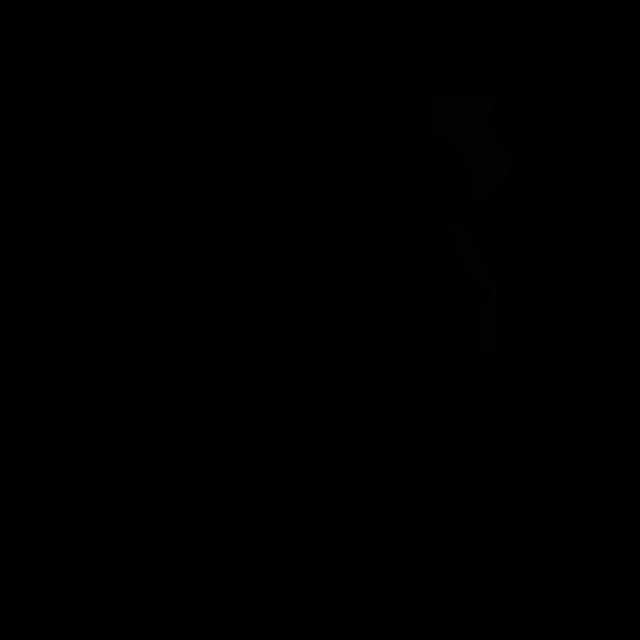cardboard: (428, 90, 517, 201), (448, 218, 500, 361)
